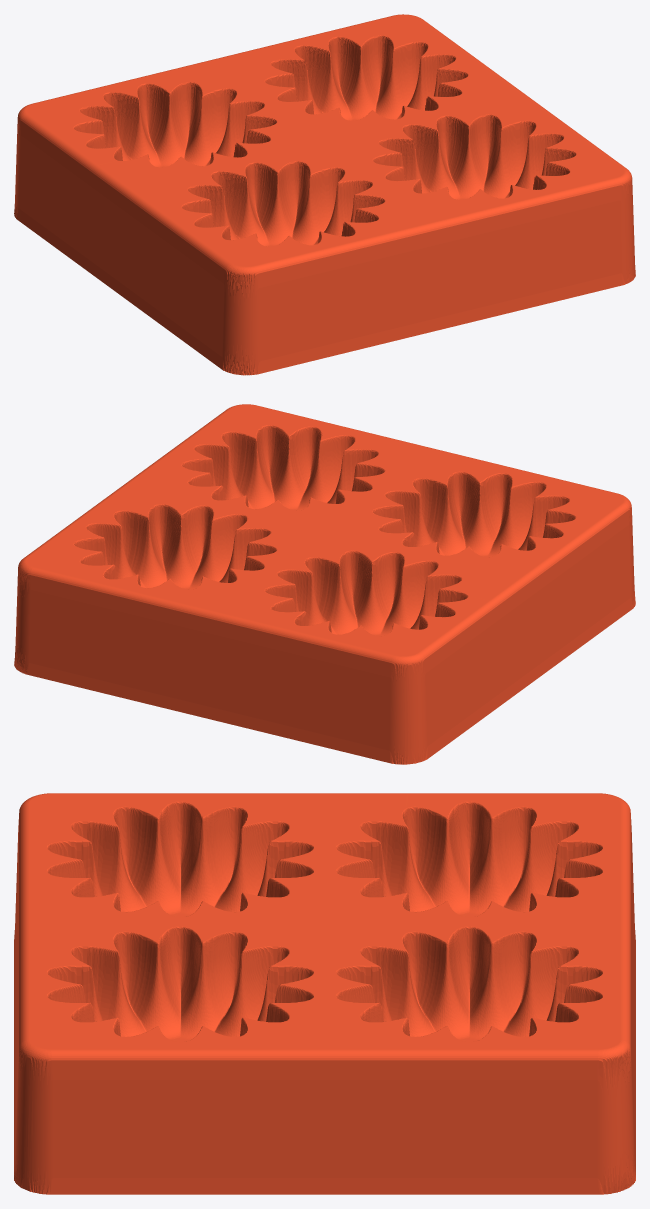
The model's file is mold.glb.
3 renders of one model, top to bottom at view 1: azimuth 30°, elevation 25°; view 2: azimuth 150°, elevation 25°; view 3: azimuth 270°, elevation 25°, orthographic. The views are drawn at different scales.
Parts seen in each view (by area): view 1: geometry_0; view 2: geometry_0; view 3: geometry_0.
Boxes of the visible parts, x1,y1,x2,y2 form: geometry_0: (14,14,635,375); geometry_0: (14,404,635,764); geometry_0: (14,793,635,1194).
Size of the model in its own units: 0.1493 by 0.036 by 0.1463.
